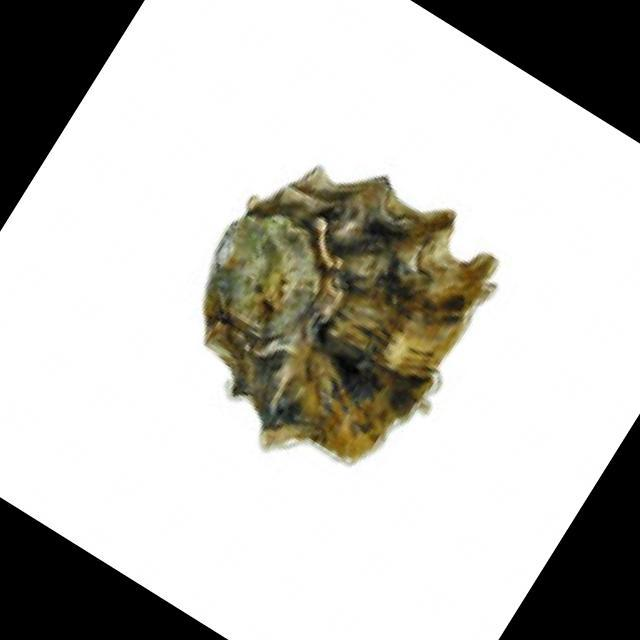Oyster- Indeterminate: (202, 167, 499, 467)
